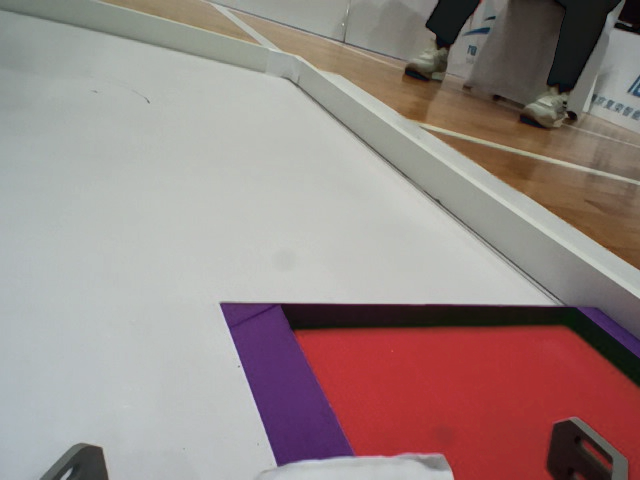kuang: (214, 286, 640, 480)
